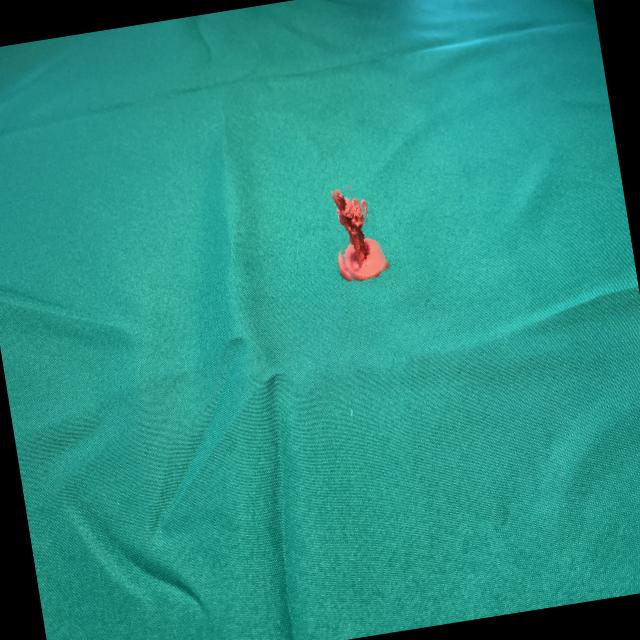amon_follower: (332, 187, 390, 280)
